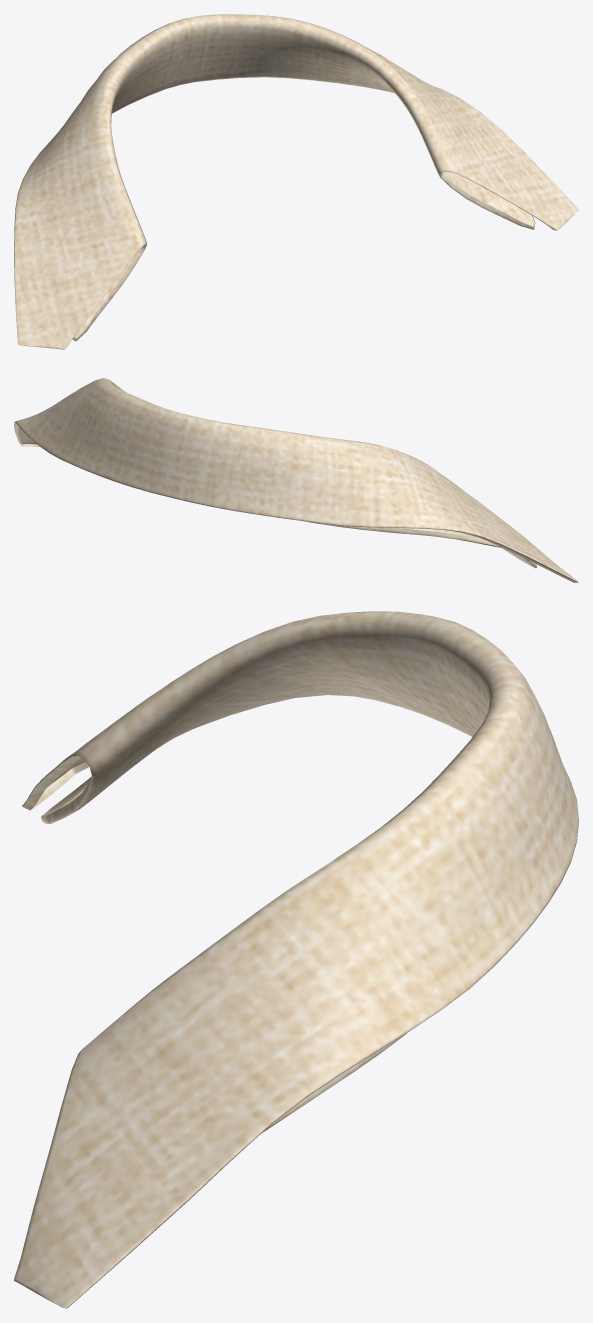
File: Peak_Collor.glb
The picture shows the model from 3 angles, top to bottom: view 1: azimuth 30°, elevation 25°; view 2: azimuth 150°, elevation 25°; view 3: azimuth 270°, elevation 25°; orthographic projection. The views are drawn at different scales.
Visible parts, largest first — view 1: Peak_Collor; view 2: Peak_Collor; view 3: Peak_Collor.
Boxes of the visible parts, x1=… form: Peak_Collor: x1=14, y1=14, x2=578, y2=349; Peak_Collor: x1=14, y1=378, x2=578, y2=582; Peak_Collor: x1=14, y1=611, x2=578, y2=1308.
Size of the model in its own units: 0.0375 by 0.0117 by 0.0165.
Materials: 1 (1 with a texture image).
